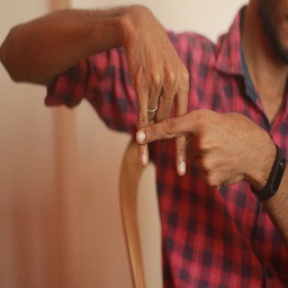H: (113, 60, 224, 189)
